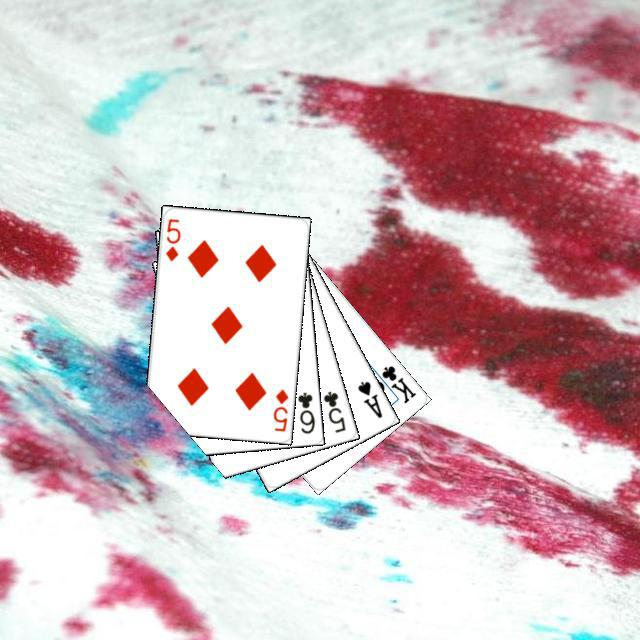5c: (318, 386, 347, 434)
5d: (268, 384, 290, 433), (161, 214, 182, 263)
6c: (293, 387, 316, 435)
As: (352, 376, 384, 420)
Kc: (369, 360, 418, 405)
